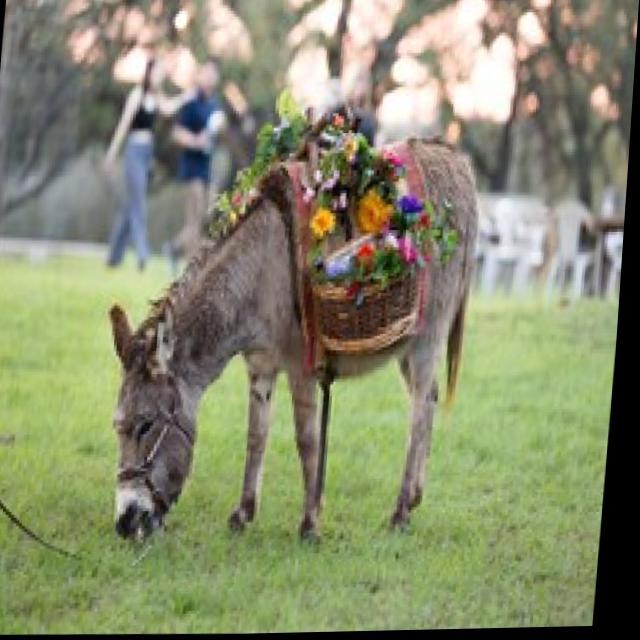Donkey: (52, 81, 532, 604)
